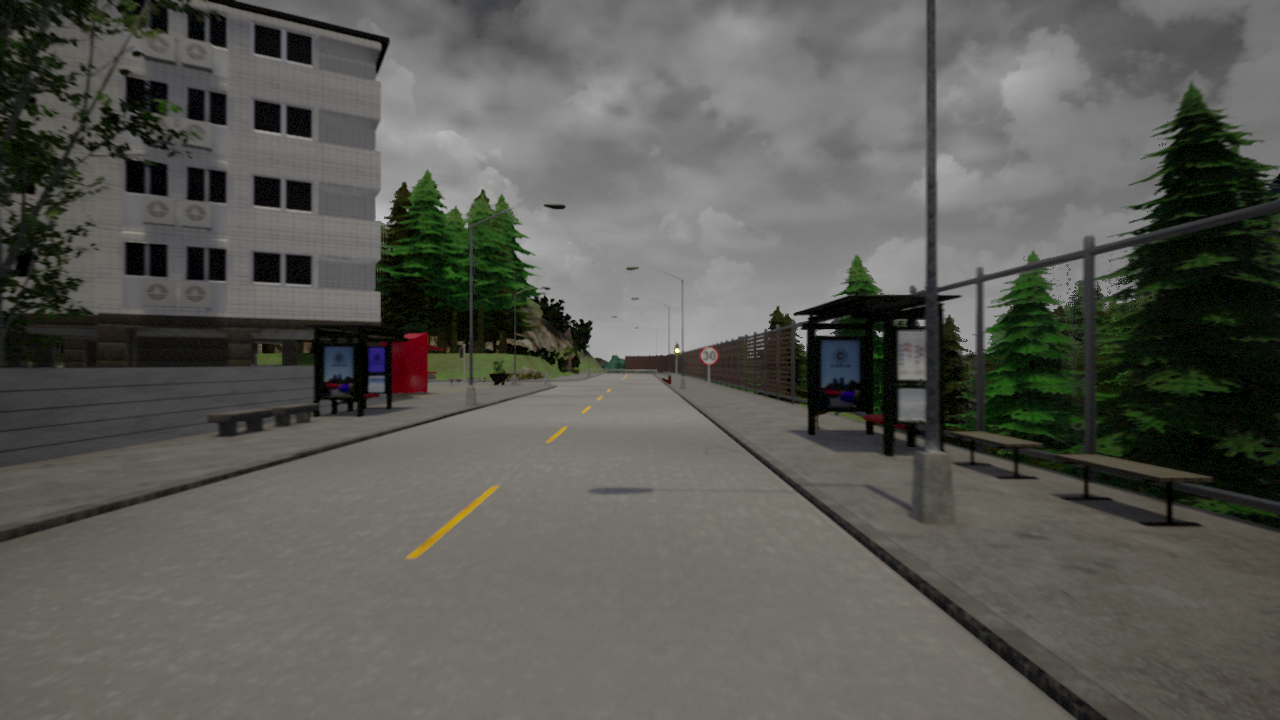yellow: (673, 342, 681, 358)
